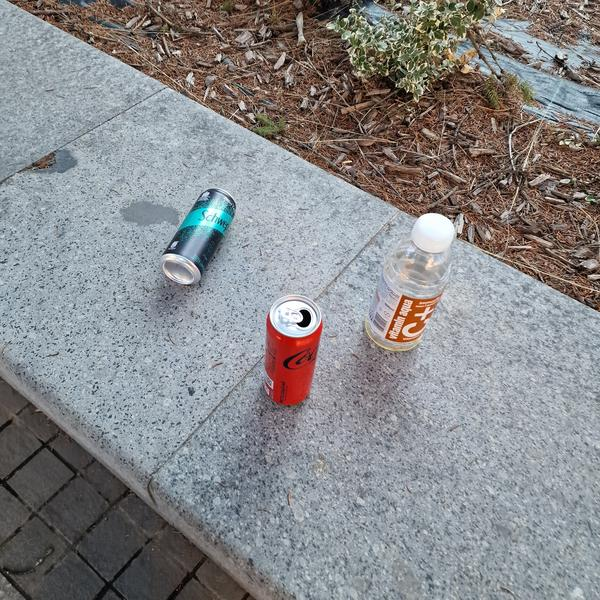can: (150, 178, 246, 296), (254, 287, 328, 413)
plastic_bottle: (356, 202, 468, 362)
